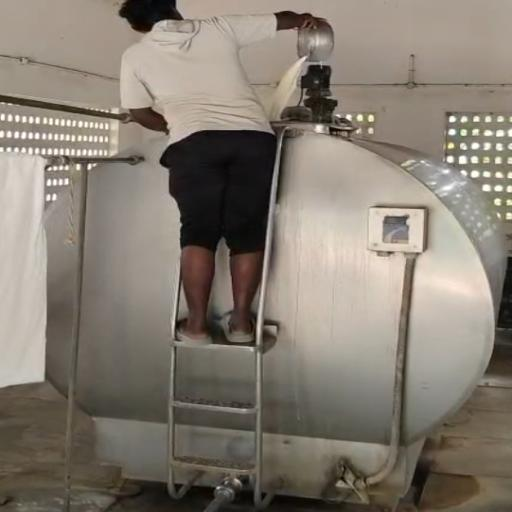silo: (46, 119, 511, 505)
vessel: (295, 20, 335, 63)
